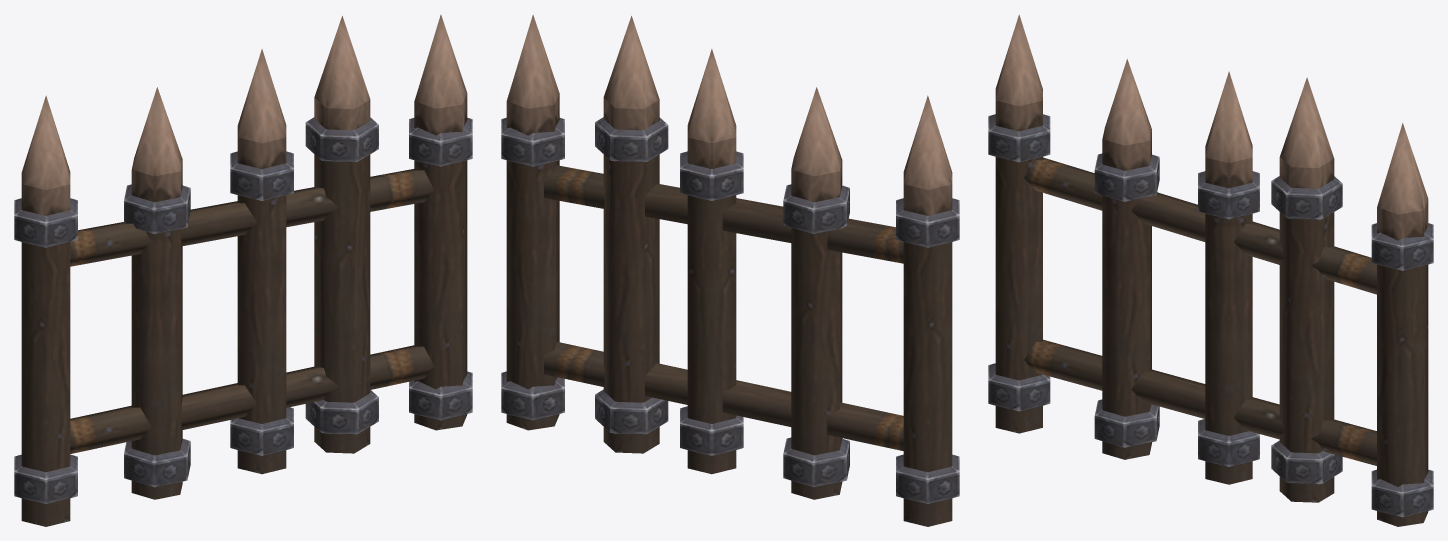
File: prop_list_16_2.FBX
The picture shows the model from 3 angles, left to right: view 1: azimuth 30°, elevation 25°; view 2: azimuth 150°, elevation 25°; view 3: azimuth 330°, elevation 25°; orthographic projection. The views are drawn at different scales.
Visible parts, largest first — view 1: prop_list_16; view 2: prop_list_16; view 3: prop_list_16.
Boxes of the visible parts, left/top/right/bottom form: prop_list_16: left=14, top=14, right=472, bottom=526; prop_list_16: left=501, top=14, right=959, bottom=526; prop_list_16: left=988, top=14, right=1433, bottom=526.
Size of the model in its own units: 115 by 102 by 15.9.
